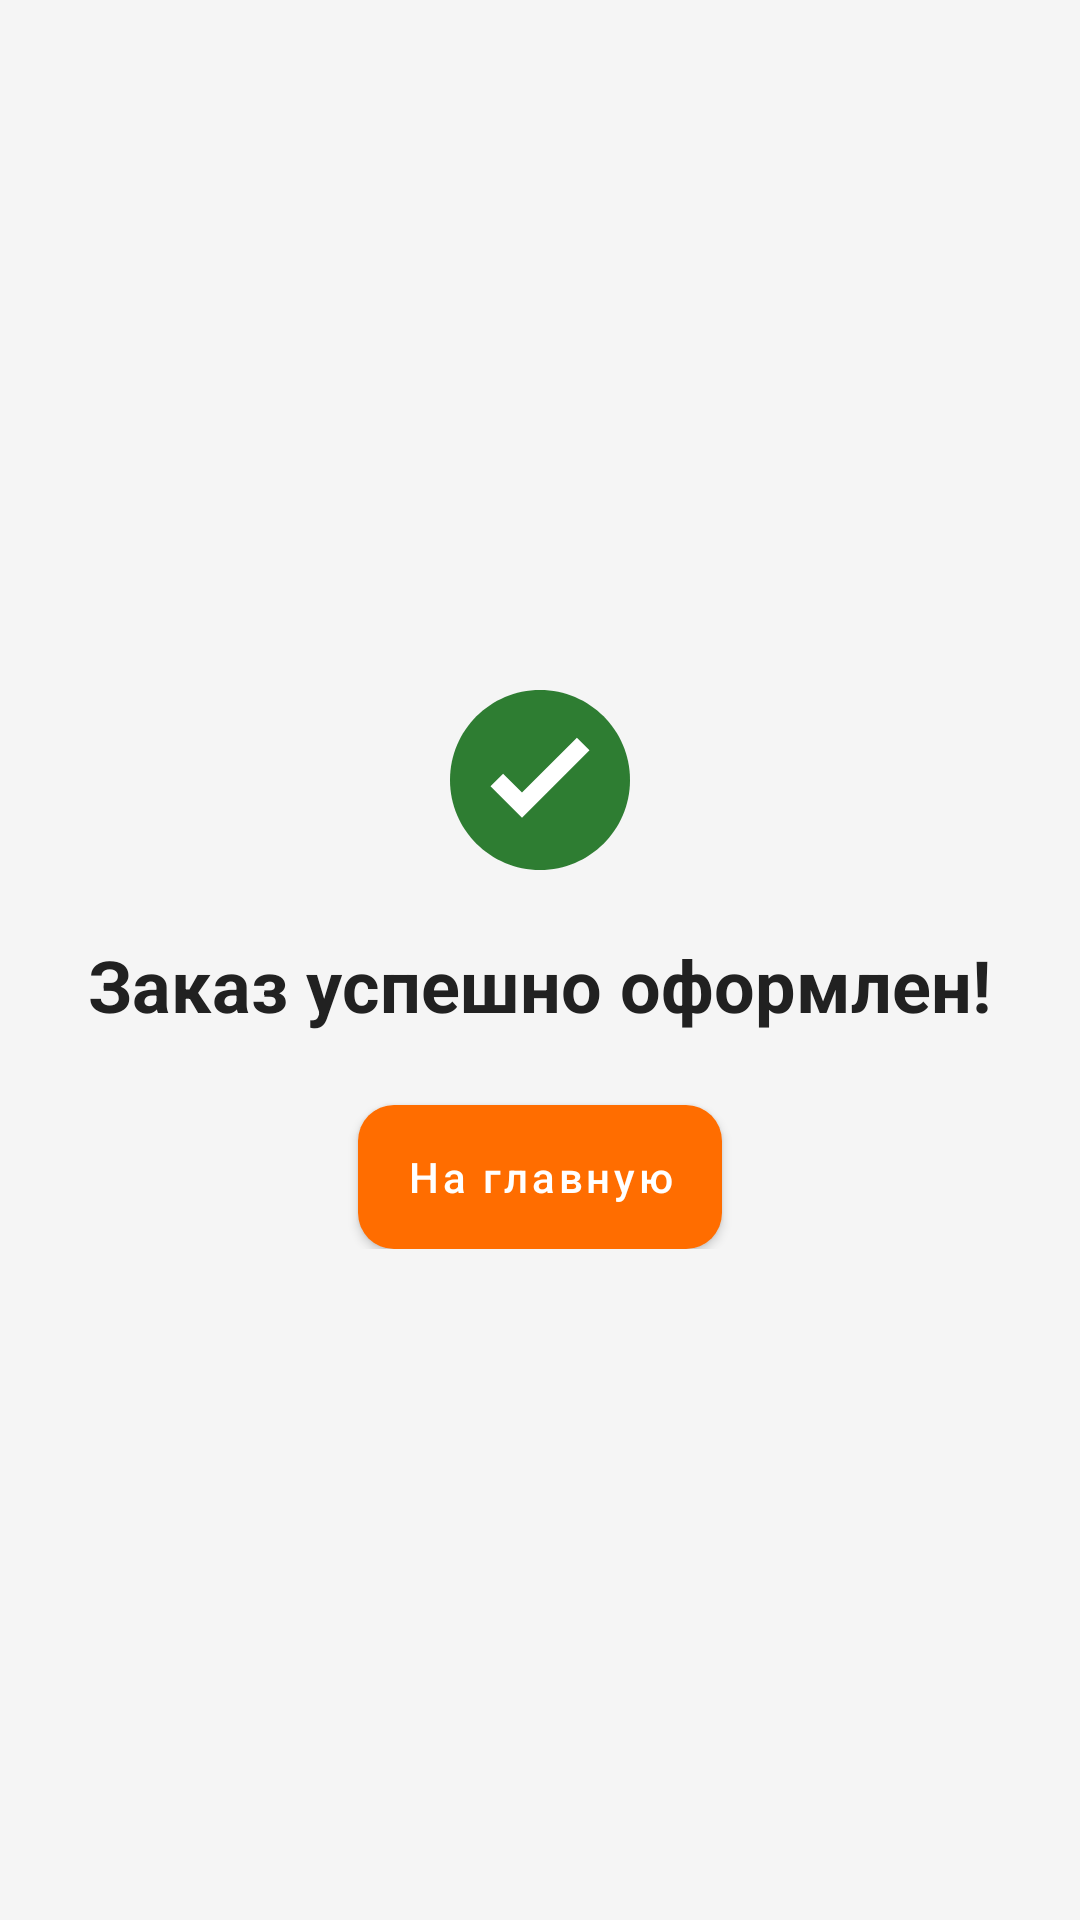

Icon bounding boxes for this 1080×1920 phone screenshot, format (x1, y1, x2, y2):
success: (450, 690, 630, 870)
